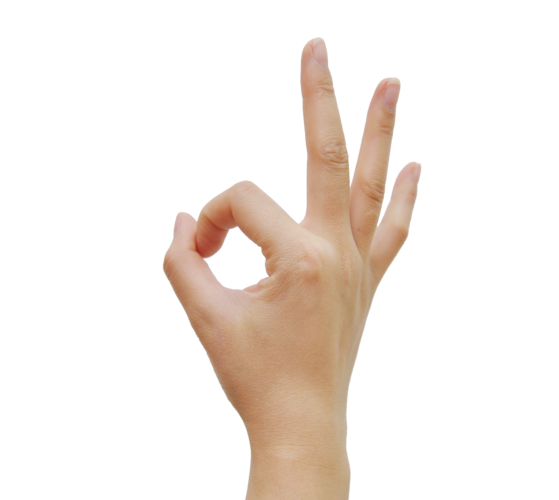no-phone: (160, 32, 428, 442)
